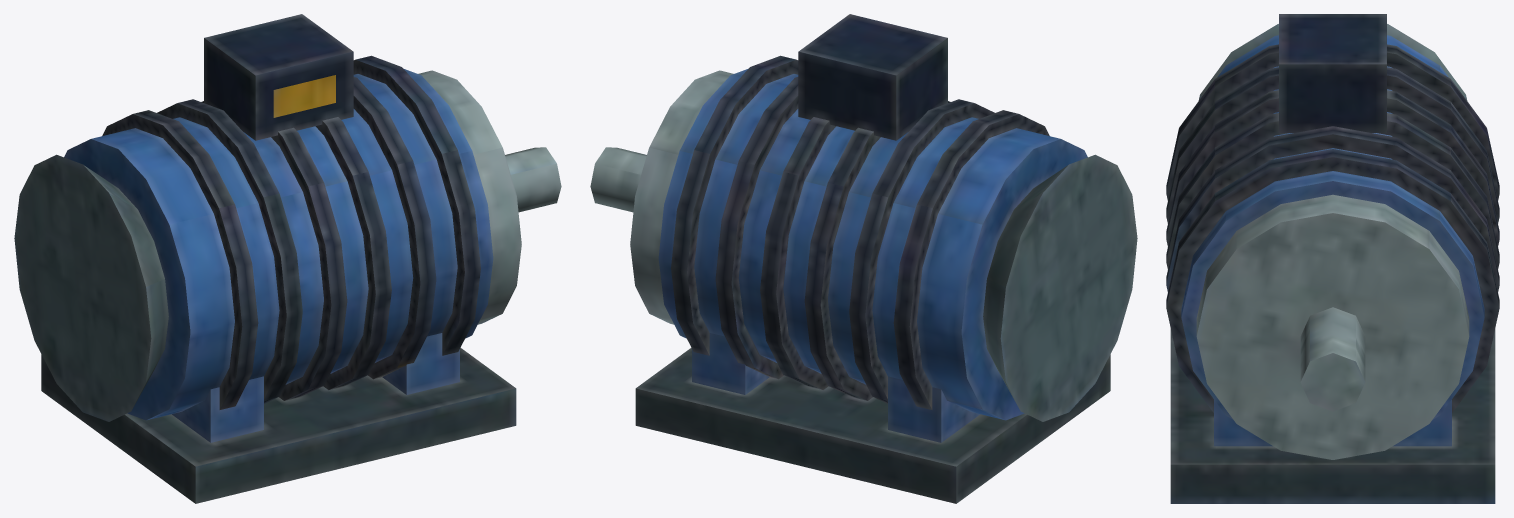
The model's file is motor.glb.
3 views of the same model, side by side, from view 1: azimuth 30°, elevation 25°; view 2: azimuth 150°, elevation 25°; view 3: azimuth 270°, elevation 25° (orthographic). The views are drawn at different scales.
Visible parts, largest first — view 1: te_res_motor; view 2: te_res_motor; view 3: te_res_motor.
Boxes of the visible parts, box(x1,y1,x2,y2) form: te_res_motor: box(14, 14, 561, 503); te_res_motor: box(590, 14, 1137, 503); te_res_motor: box(1166, 14, 1499, 503).
Bounding box in the file's own units: 0.52 × 0.39 × 0.308.
Materials: 1 (1 with a texture image).
